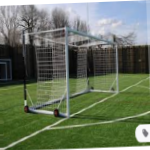goals: (25, 26, 121, 118)
